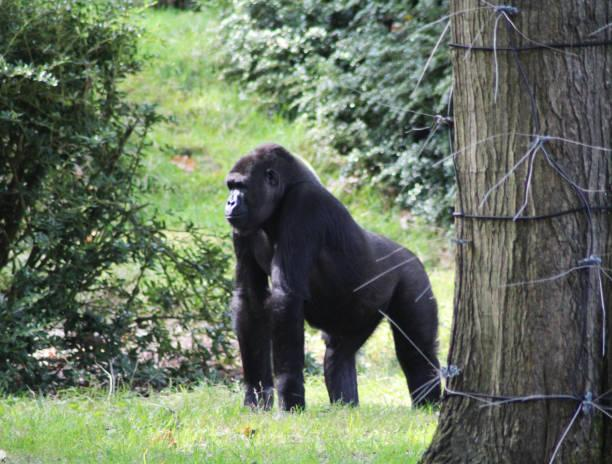gorille_Autres: (205, 104, 443, 436)
